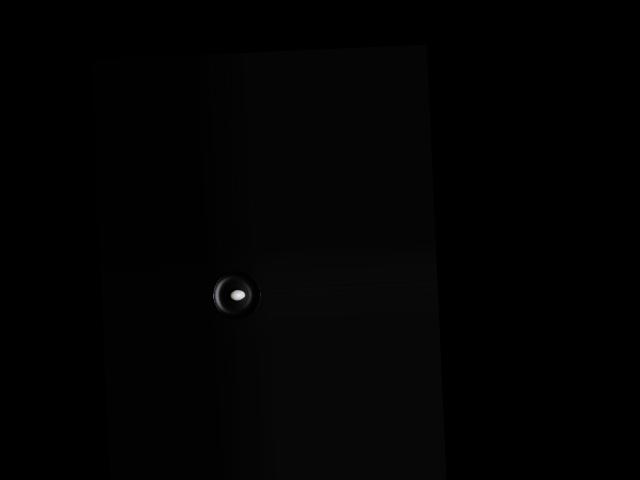egg: (229, 289, 245, 301)
